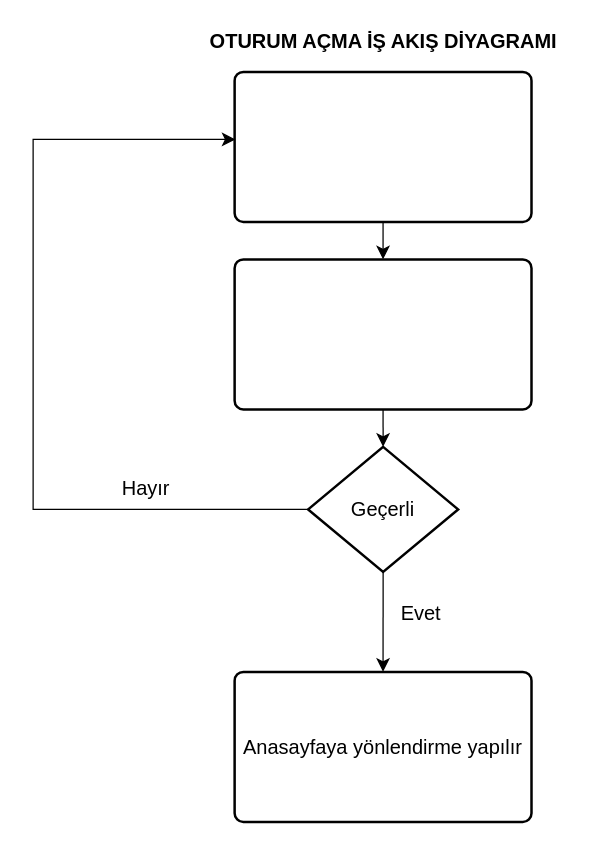
The diagram is 593 pixels wide and 844 high, and some of its shapes have lost their labels. Each missing label, with the centre of its shape:
"Girilen bilgilerin geçerliliği kontrol edilir" goes at pixel 382 334.
"Kullanıcı, sisteme kullanıcı adı ve şifre bilgilerini girer" goes at pixel 382 146.
